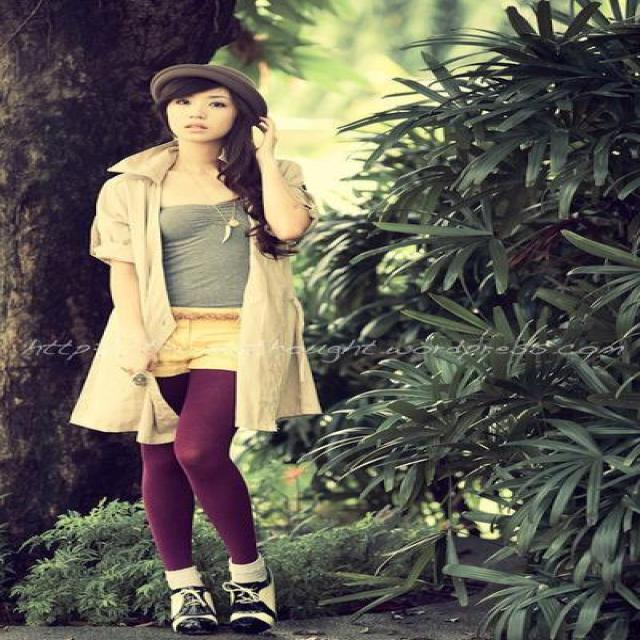hat: (150, 46, 258, 105)
jacket: (68, 132, 322, 447)
pants: (140, 369, 262, 570)
shirt: (158, 201, 258, 307)
shoe: (165, 557, 275, 639)
